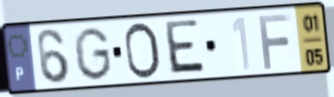1: (231, 16, 252, 72)
6: (35, 26, 73, 87)
E: (164, 17, 208, 77)
F: (256, 11, 294, 71)
G: (72, 26, 114, 83)
O: (122, 20, 163, 82)
